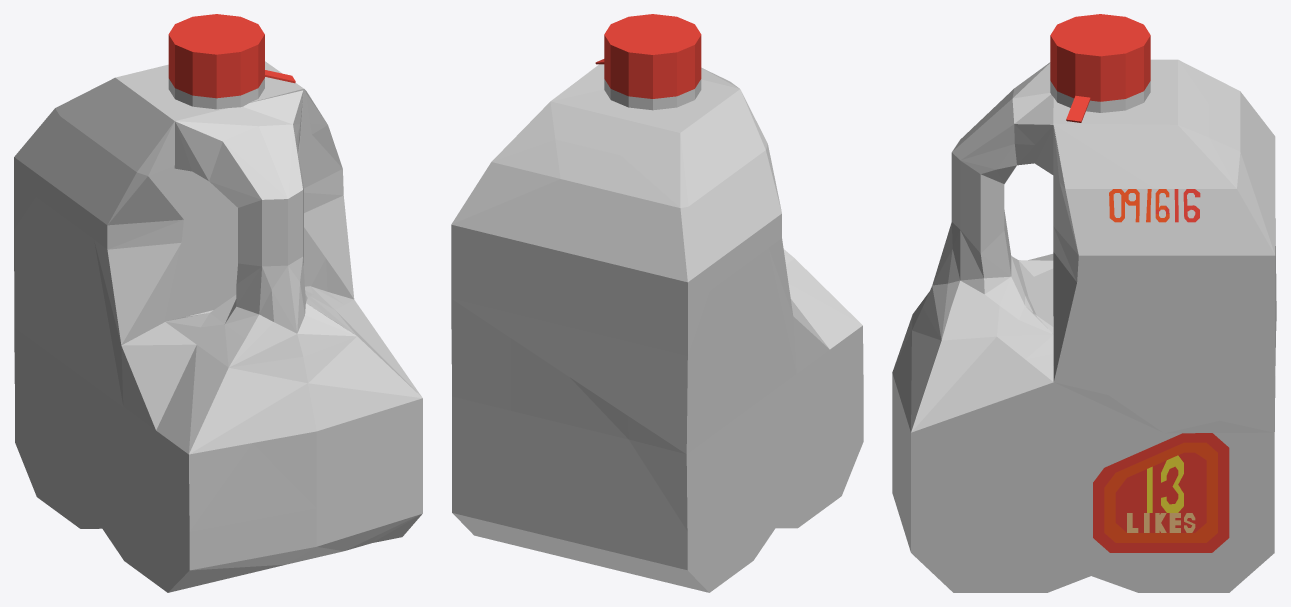
3 views of the same model, side by side, from view 1: azimuth 30°, elevation 25°; view 2: azimuth 150°, elevation 25°; view 3: azimuth 270°, elevation 25° (orthographic). The views are drawn at different scales.
Parts seen in each view (by area): view 1: mesh_1775406409, mesh_1152017475, mesh_301368041, mesh_1082469960, mesh_1884494935, mesh_202920538, mesh_913992076; view 2: mesh_1775406409, mesh_1152017475, mesh_1884494935, mesh_301368041, mesh_913992076; view 3: mesh_1775406409, mesh_1152017475, mesh_1082469960, mesh_301368041, mesh_1884494935, mesh_202920538.
Part boxes in pixels (bbox=[...]): mesh_1775406409: bbox=[14, 61, 354, 405]; mesh_1152017475: bbox=[14, 327, 422, 592]; mesh_301368041: bbox=[121, 286, 422, 454]; mesh_1082469960: bbox=[165, 124, 356, 367]; mesh_1884494935: bbox=[168, 14, 264, 109]; mesh_202920538: bbox=[174, 90, 303, 180]; mesh_913992076: bbox=[116, 65, 226, 120]; mesh_1775406409: bbox=[451, 64, 796, 454]; mesh_1152017475: bbox=[452, 325, 863, 592]; mesh_1884494935: bbox=[604, 14, 701, 110]; mesh_301368041: bbox=[786, 258, 862, 373]; mesh_913992076: bbox=[552, 79, 739, 132]; mesh_1775406409: bbox=[1047, 59, 1276, 433]; mesh_1152017475: bbox=[892, 329, 1276, 592]; mesh_1082469960: bbox=[923, 88, 1053, 340]; mesh_301368041: bbox=[892, 254, 1053, 432]; mesh_1884494935: bbox=[1050, 14, 1150, 112]; mesh_202920538: bbox=[1012, 62, 1053, 174].
Size of the model in its own units: 166 by 325 by 226.
